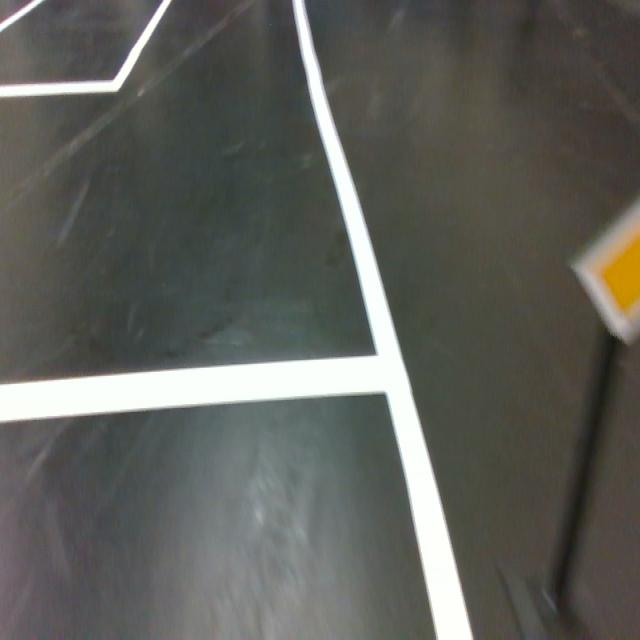priority-sign: (568, 191, 640, 346)
